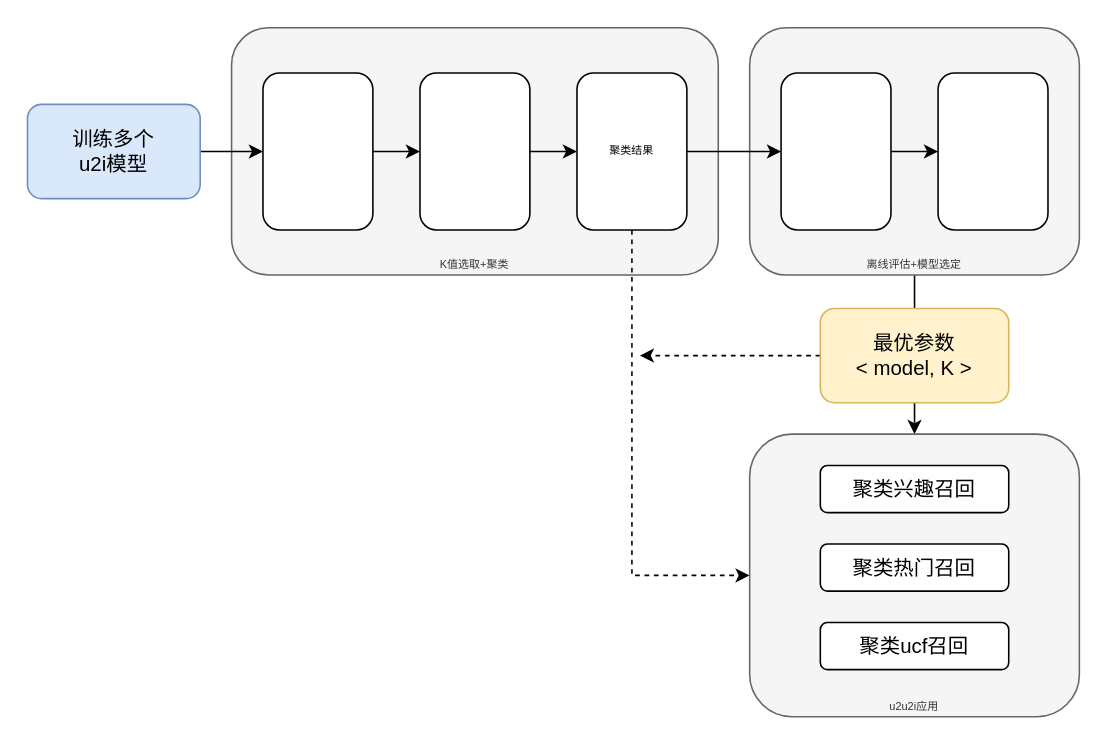
Some shapes in this 1107 by 744 pixel diagram are drawn without their labels. Here are the shapes that lost their labels. From the top down, the centre of each, then its label:
the point at 317,150: UICHttp 接口获取 Vector
the point at 474,150: CH和SH 计算 确定K值
the point at 835,150: u2i模型 离线评估
the point at 992,150: 确定 最优模型
